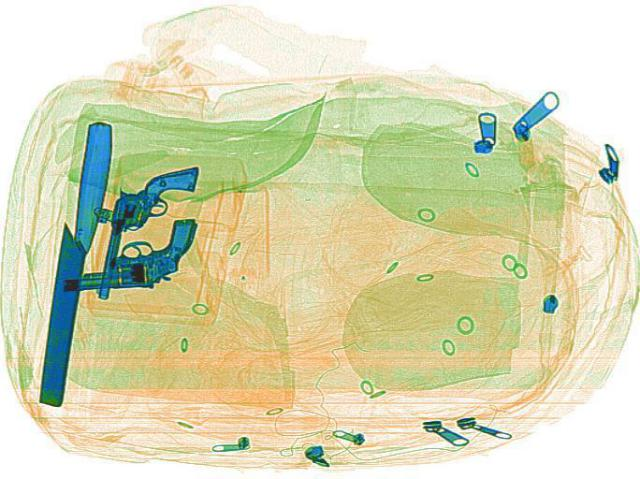Gun: (94, 158, 198, 305), (52, 215, 206, 292)
Knife: (24, 119, 118, 404)
